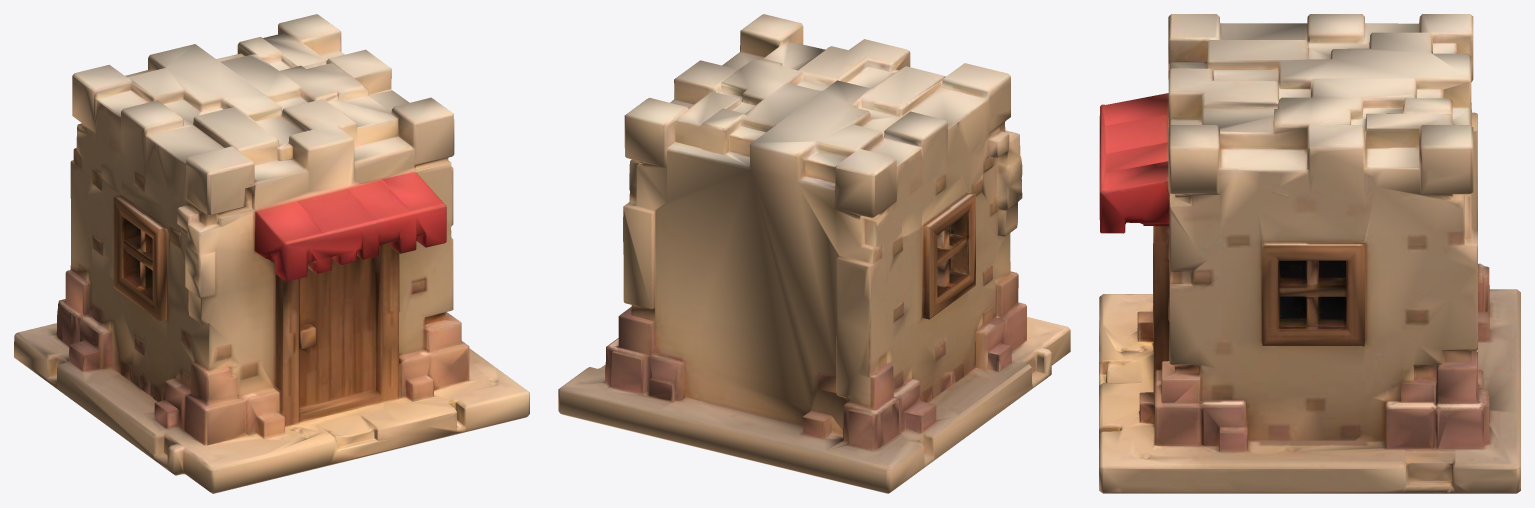
The model's file is house_a.glb.
The picture shows the model from 3 angles, left to right: view 1: azimuth 30°, elevation 25°; view 2: azimuth 150°, elevation 25°; view 3: azimuth 270°, elevation 25°; orthographic projection. The views are drawn at different scales.
Visible parts, largest first — view 1: node_0; view 2: node_0; view 3: node_0.
Part boxes in pixels (x1=…): node_0: x1=14, y1=14, x2=529, y2=493; node_0: x1=558, y1=14, x2=1070, y2=493; node_0: x1=1099, y1=14, x2=1520, y2=493.
Size of the model in its own units: 0.7357 by 0.6277 by 0.7358.
1 material, 1 textured.
